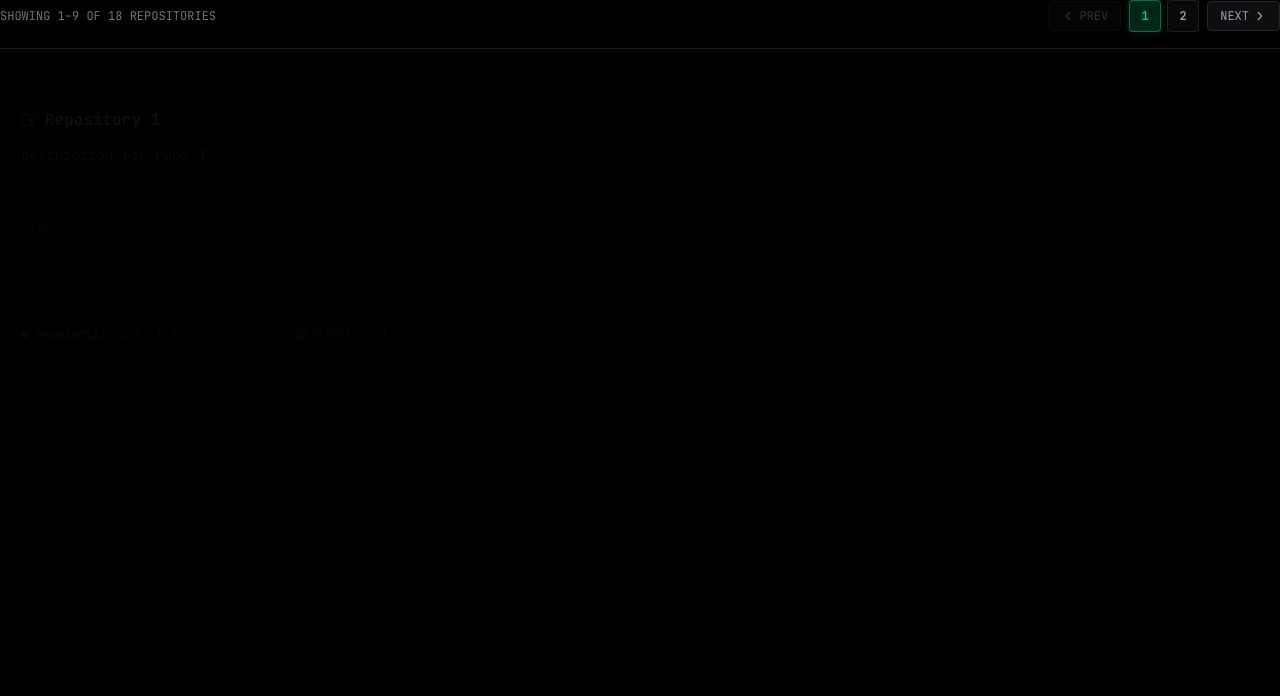
Scenario: ProjectGrid Component › fetches page 2 on-demand when not available in initial slice
The width and height of the screenshot is (1280, 696).
Click the button with aria-label "next page".
click(1244, 16)  # box [1207, 1, 1279, 31]
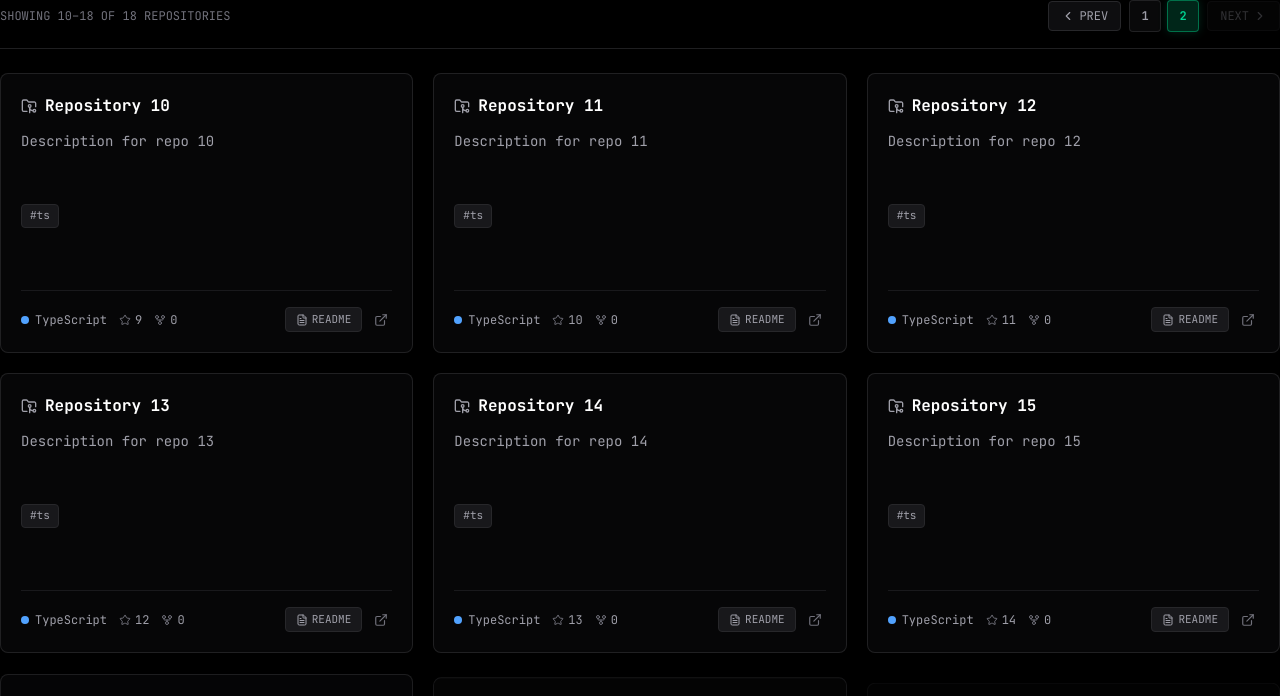
Expected: the link "Repository 10" is shown, [45, 94, 170, 118]
